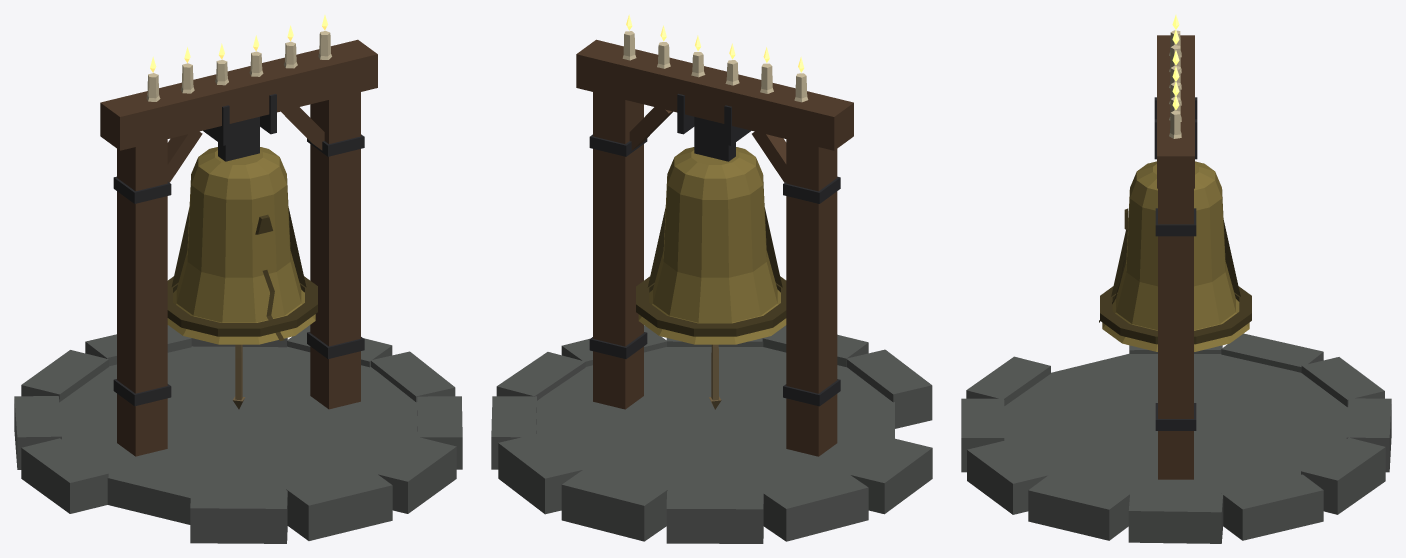
Rendered from bell.glb.
3 views of the same model, side by side, from view 1: azimuth 30°, elevation 25°; view 2: azimuth 150°, elevation 25°; view 3: azimuth 270°, elevation 25° (orthographic). The views are drawn at different scales.
Parts seen in each view (by area): view 1: Platform, Frame, Bell; view 2: Platform, Frame, Bell; view 3: Platform, Frame, Bell.
Part boxes in pixels (<box>): Platform: <box>14,325,462,543</box>; Frame: <box>100,39,377,456</box>; Bell: <box>167,116,317,409</box>; Platform: <box>491,325,932,543</box>; Frame: <box>576,39,853,456</box>; Bell: <box>636,117,786,409</box>; Platform: <box>961,333,1391,543</box>; Frame: <box>1154,35,1197,479</box>; Bell: <box>1099,161,1251,351</box>.
Bounding box in the file's own units: 3.61 × 3.7 × 3.61.
